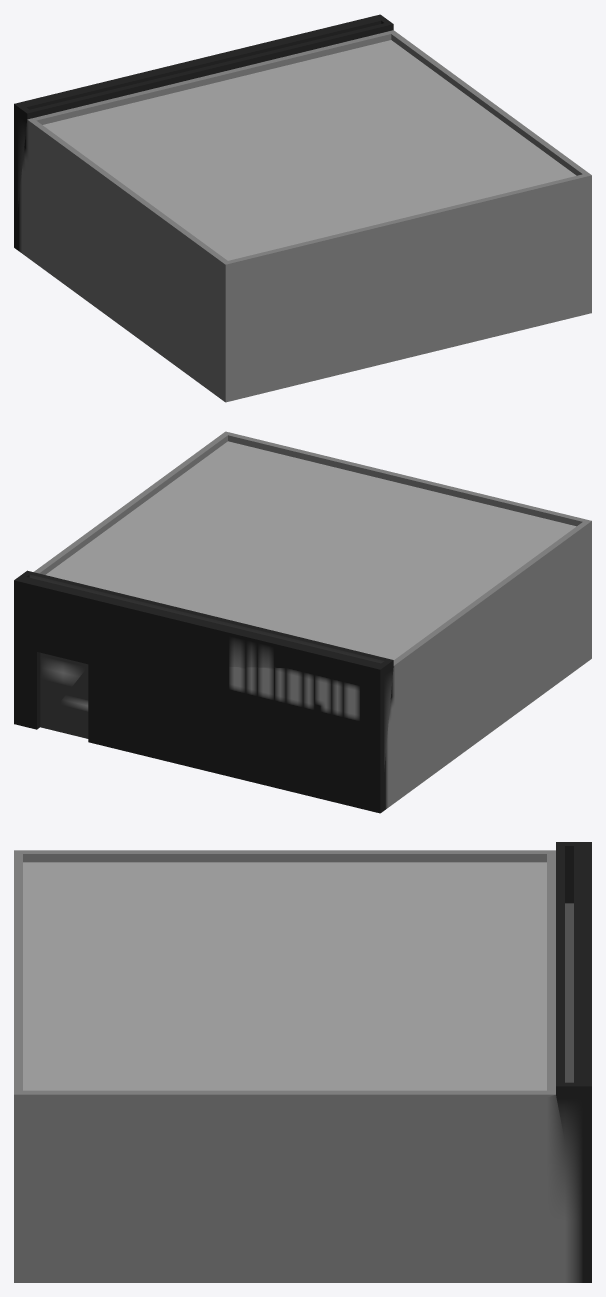
The model's file is obj_store16.fbx.
The picture shows the model from 3 angles, top to bottom: view 1: azimuth 30°, elevation 25°; view 2: azimuth 150°, elevation 25°; view 3: azimuth 270°, elevation 25°; orthographic projection. The views are drawn at different scales.
Parts seen in each view (by area): view 1: obj_store16; view 2: obj_store16; view 3: obj_store16.
Boxes of the visible parts, x1,y1,x2,y2 form: obj_store16: (14, 14, 591, 402); obj_store16: (14, 431, 591, 813); obj_store16: (14, 842, 591, 1282).
Bounding box in the file's own units: 6.4 × 6.4 × 2.4.
Materials: 1 (1 with a texture image).
